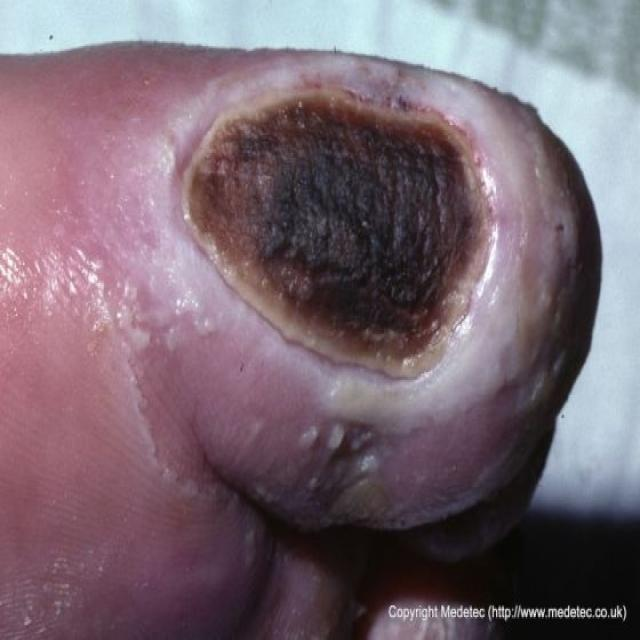Unstageable: (185, 92, 489, 376)
